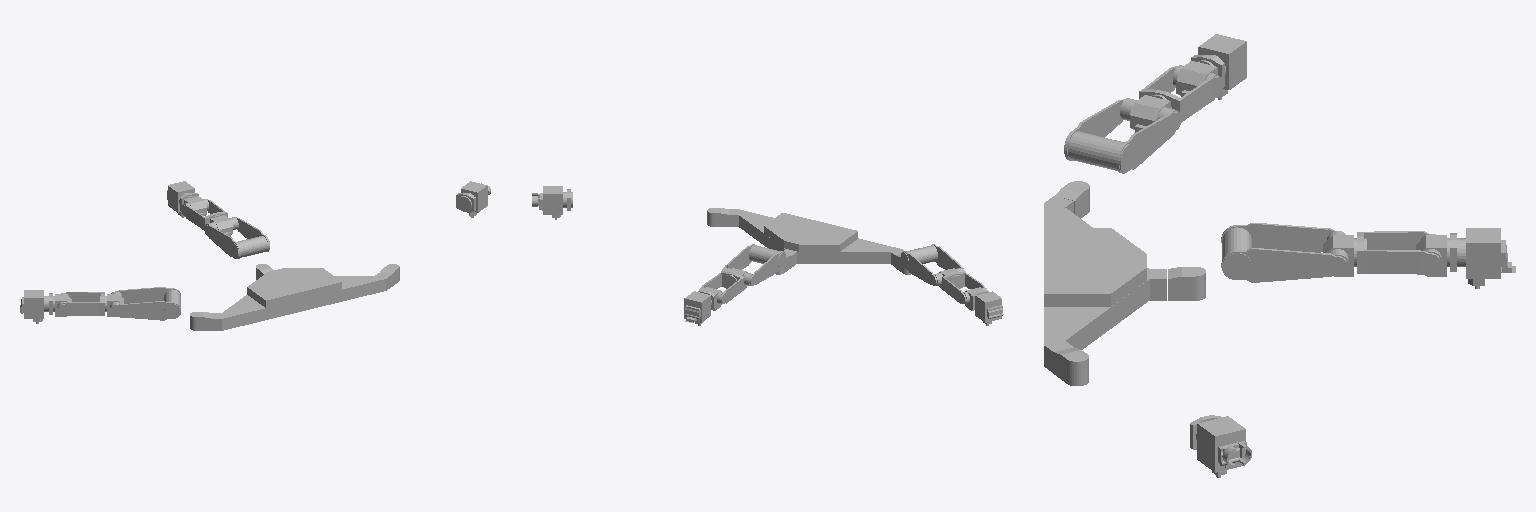
--- What the picture shows (computed from the rendered views, not written in the file) ---
Views: 3 orthographic renders of the robot side by side, from view 1: azimuth 30°, elevation 25°; view 2: azimuth 150°, elevation 25°; view 3: azimuth 270°, elevation 25°.
Robot: TriATHLETE — 28 links, 27 joints (21 revolute, 6 prismatic); root link Body; default pose: all joints at 0.
Visible links, largest first — view 1: Body, Thigh3, Thigh2, Shin3, Foot3, Foot1, Foot2, Shin2; view 2: Body, Thigh2, Thigh3, Foot1, Foot3, Foot2, Shin3, Shin2; view 3: Body, Thigh2, Thigh3, Shin2, Foot2, Foot1, Foot3, Shin3, Knee3, Ankle3, Knee2, Ankle2.
Boxes of the visible links, x1,y1,x2,y2 form: Body: (190, 264, 399, 330); Thigh3: (111, 287, 180, 320); Thigh2: (204, 217, 269, 258); Shin3: (58, 292, 106, 315); Foot3: (20, 290, 54, 323); Foot1: (456, 181, 487, 217); Foot2: (167, 181, 198, 217); Shin2: (181, 199, 227, 229); Body: (707, 208, 910, 274); Thigh2: (721, 244, 785, 285); Thigh3: (900, 244, 965, 285); Foot1: (539, 186, 572, 219); Foot3: (971, 291, 1003, 325); Foot2: (684, 291, 715, 325); Shin3: (942, 272, 987, 303); Shin2: (699, 272, 743, 303); Body: (1044, 181, 1205, 385); Thigh2: (1221, 223, 1346, 282); Thigh3: (1064, 99, 1181, 173); Shin2: (1354, 231, 1440, 274); Foot2: (1447, 228, 1507, 288); Foot1: (1190, 415, 1246, 477); Foot3: (1191, 34, 1246, 99); Shin3: (1139, 66, 1222, 122); Knee3: (1120, 95, 1178, 132); Ankle3: (1173, 61, 1218, 96); Knee2: (1323, 231, 1353, 276); Ankle2: (1416, 234, 1446, 276).
Bounding box of the posed robot: 8.33 × 4.04 × 0.5767 m (x, y, z).
Meshes: 28 distinct files referenced, 16 mesh visuals loaded (16 binary STL); not drawn: 12 (reference not matched to a file when rendering).

robot.urdf — TriATHLETE:
<robot
  name="TriATHLETE">
  <link
    name="Body">
    <inertial>
      <origin
        xyz="0.00032761 0.38981 0.13484"
        rpy="0 0 0" />
      <mass
        value="69.465" />
      <inertia
        ixx="9.5472"
        ixy="-0.0060042"
        ixz="-0.00096273"
        iyy="61.245"
        iyz="-0.026122"
        izz="69.216" />
    </inertial>
    <visual>
      <origin
        xyz="0 0 0"
        rpy="0 0 0" />
      <geometry>
        <mesh
          filename="package://TriATHLETE_Climbing/meshes/Body.STL" />
      </geometry>
      <material
        name="">
        <color
          rgba="0.75294 0.75294 0.75294 1" />
      </material>
    </visual>
    <collision>
      <origin
        xyz="0 0 0"
        rpy="0 0 0" />
      <geometry>
        <mesh
          filename="package://TriATHLETE_Climbing/meshes/Body.STL" />
      </geometry>
    </collision>
  </link>
  <link
    name="Hip1">
    <inertial>
      <origin
        xyz="0.12059 0.04703 -0.043975"
        rpy="0 0 0" />
      <mass
        value="10.161" />
      <inertia
        ixx="0.69317"
        ixy="0.0073762"
        ixz="0.040711"
        iyy="0.34376"
        iyz="0.0014897"
        izz="0.9152" />
    </inertial>
    <visual>
      <origin
        xyz="0 0 0"
        rpy="0 0 0" />
      <geometry>
        <mesh
          filename="package://TriATHLETE_Climbing/meshes/Hip1.STL" />
      </geometry>
      <material
        name="">
        <color
          rgba="0.75294 0.75294 0.75294 1" />
      </material>
    </visual>
    <collision>
      <origin
        xyz="0 0 0"
        rpy="0 0 0" />
      <geometry>
        <mesh
          filename="package://TriATHLETE_Climbing/meshes/Hip1.STL" />
      </geometry>
    </collision>
  </link>
  <joint
    name="HY1"
    type="revolute">
    <origin
      xyz="1.7322 0.27849 0.41034"
      rpy="-3.257E-15 -6.0627E-15 0.5236" />
    <parent
      link="Body" />
    <child
      link="Hip1" />
    <axis
      xyz="0 0 -1" />
    <limit
      lower="-3.1416"
      upper="3.1416"
      effort="0"
      velocity="0" />
  </joint>
  <link
    name="Thigh1">
    <inertial>
      <origin
        xyz="0.37052 1.2567E-08 -0.0016621"
        rpy="0 0 0" />
      <mass
        value="14.238" />
      <inertia
        ixx="1.0008"
        ixy="7.0442E-08"
        ixz="0.0087687"
        iyy="2.0253"
        iyz="-0.00024727"
        izz="1.3252" />
    </inertial>
    <visual>
      <origin
        xyz="0 0 0"
        rpy="0 0 0" />
      <geometry>
        <mesh
          filename="package://TriATHLETE_Climbing/meshes/Thigh1.STL" />
      </geometry>
      <material
        name="">
        <color
          rgba="0.75294 0.75294 0.75294 1" />
      </material>
    </visual>
    <collision>
      <origin
        xyz="0 0 0"
        rpy="0 0 0" />
      <geometry>
        <mesh
          filename="package://TriATHLETE_Climbing/meshes/Thigh1.STL" />
      </geometry>
    </collision>
  </link>
  <joint
    name="HP1"
    type="revolute">
    <origin
      xyz="0.36808 0 0"
      rpy="-1.5708 1.2759E-14 6.6613E-16" />
    <parent
      link="Hip1" />
    <child
      link="Thigh1" />
    <axis
      xyz="0 0 -1" />
    <limit
      lower="-1.9199"
      upper="1.5708"
      effort="0"
      velocity="0" />
  </joint>
  <link
    name="Knee1">
    <inertial>
      <origin
        xyz="0.014835 -0.055529 0.0058012"
        rpy="0 0 0" />
      <mass
        value="6.9322" />
      <inertia
        ixx="0.16535"
        ixy="0.0071097"
        ixz="-0.0005908"
        iyy="0.14265"
        iyz="0.0022095"
        izz="0.11836" />
    </inertial>
    <visual>
      <origin
        xyz="0 0 0"
        rpy="0 0 0" />
      <geometry>
        <mesh
          filename="package://TriATHLETE_Climbing/meshes/Knee1.STL" />
      </geometry>
      <material
        name="">
        <color
          rgba="0.75294 0.75294 0.75294 1" />
      </material>
    </visual>
    <collision>
      <origin
        xyz="0 0 0"
        rpy="0 0 0" />
      <geometry>
        <mesh
          filename="package://TriATHLETE_Climbing/meshes/Knee1.STL" />
      </geometry>
    </collision>
  </link>
  <joint
    name="KP1"
    type="revolute">
    <origin
      xyz="0.8627 0 0"
      rpy="7.7716E-16 5.5497E-16 1.5708" />
    <parent
      link="Thigh1" />
    <child
      link="Knee1" />
    <axis
      xyz="0 0 -1" />
    <limit
      lower="-1.9199"
      upper="3.1416"
      effort="0"
      velocity="0" />
  </joint>
  <link
    name="Shin1">
    <inertial>
      <origin
        xyz="2.2722E-06 1.9798E-05 0.38864"
        rpy="0 0 0" />
      <mass
        value="11.342" />
      <inertia
        ixx="0.80592"
        ixy="-0.0001612"
        ixz="-5.0691E-06"
        iyy="0.59356"
        iyz="-5.2897E-05"
        izz="0.3788" />
    </inertial>
    <visual>
      <origin
        xyz="0 0 0"
        rpy="0 0 0" />
      <geometry>
        <mesh
          filename="package://TriATHLETE_Climbing/meshes/Shin1.STL" />
      </geometry>
      <material
        name="">
        <color
          rgba="0.75294 0.75294 0.75294 1" />
      </material>
    </visual>
    <collision>
      <origin
        xyz="0 0 0"
        rpy="0 0 0" />
      <geometry>
        <mesh
          filename="package://TriATHLETE_Climbing/meshes/Shin1.STL" />
      </geometry>
    </collision>
  </link>
  <joint
    name="KR1"
    type="revolute">
    <origin
      xyz="0 0 0"
      rpy="1.5708 2.6218E-16 8.7503E-15" />
    <parent
      link="Knee1" />
    <child
      link="Shin1" />
    <axis
      xyz="0 0 -1" />
    <limit
      lower="-3.1416"
      upper="3.1416"
      effort="0"
      velocity="0" />
  </joint>
  <link
    name="Ankle1">
    <inertial>
      <origin
        xyz="0.01649 -0.057475 0.0063572"
        rpy="0 0 0" />
      <mass
        value="6.2489" />
      <inertia
        ixx="0.13248"
        ixy="0.0072959"
        ixz="-0.00064928"
        iyy="0.11016"
        iyz="0.0023058"
        izz="0.1122" />
    </inertial>
    <visual>
      <origin
        xyz="0 0 0"
        rpy="0 0 0" />
      <geometry>
        <mesh
          filename="package://TriATHLETE_Climbing/meshes/Ankle1.STL" />
      </geometry>
      <material
        name="">
        <color
          rgba="0.75294 0.75294 0.75294 1" />
      </material>
    </visual>
    <collision>
      <origin
        xyz="0 0 0"
        rpy="0 0 0" />
      <geometry>
        <mesh
          filename="package://TriATHLETE_Climbing/meshes/Ankle1.STL" />
      </geometry>
    </collision>
  </link>
  <joint
    name="AP1"
    type="revolute">
    <origin
      xyz="0 0 0.79918"
      rpy="-1.5708 -1.5149E-15 2.7636E-16" />
    <parent
      link="Shin1" />
    <child
      link="Ankle1" />
    <axis
      xyz="0 0 -1" />
    <limit
      lower="-2.0944"
      upper="2.0944"
      effort="0"
      velocity="0" />
  </joint>
  <link
    name="Foot1">
    <inertial>
      <origin
        xyz="0.55009 0.039493 0.39286"
        rpy="0 0 0" />
      <mass
        value="561.33" />
      <inertia
        ixx="35.475"
        ixy="0.68563"
        ixz="-0.40406"
        iyy="24.501"
        iyz="-2.4704"
        izz="32.003" />
    </inertial>
    <visual>
      <origin
        xyz="0 0 0"
        rpy="0 0 0" />
      <geometry>
        <mesh
          filename="package://TriATHLETE_Climbing/meshes/Foot1.STL" />
      </geometry>
      <material
        name="">
        <color
          rgba="0.75294 0.75294 0.75294 1" />
      </material>
    </visual>
    <collision>
      <origin
        xyz="0 0 0"
        rpy="0 0 0" />
      <geometry>
        <mesh
          filename="package://TriATHLETE_Climbing/meshes/Foot1.STL" />
      </geometry>
    </collision>
  </link>
  <joint
    name="AR1"
    type="revolute">
    <origin
      xyz="0 0 0"
      rpy="1.5708 7.4188E-16 1.3492E-16" />
    <parent
      link="Ankle1" />
    <child
      link="Foot1" />
    <axis
      xyz="0 0 -1" />
    <limit
      lower="-3.1416"
      upper="3.1416"
      effort="0"
      velocity="0" />
  </joint>
  <link
    name="ToolCam1">
    <inertial>
      <origin
        xyz="0 -5.5511E-17 -0.059372"
        rpy="0 0 0" />
      <mass
        value="0.00060466" />
      <inertia
        ixx="8.1422E-07"
        ixy="4.178E-23"
        ixz="1.5882E-22"
        iyy="1.2351E-06"
        iyz="-1.3405E-22"
        izz="6.2829E-07" />
    </inertial>
    <visual>
      <origin
        xyz="0 0 0"
        rpy="0 0 0" />
      <geometry>
        <mesh
          filename="package://TriATHLETE_Climbing/meshes/ToolCam1.STL" />
      </geometry>
      <material
        name="">
        <color
          rgba="0.75294 0.75294 0.75294 1" />
      </material>
    </visual>
    <collision>
      <origin
        xyz="0 0 0"
        rpy="0 0 0" />
      <geometry>
        <mesh
          filename="package://TriATHLETE_Climbing/meshes/ToolCam1.STL" />
      </geometry>
    </collision>
  </link>
  <joint
    name="TCam1"
    type="revolute">
    <origin
      xyz="0.13569 0 0.60972"
      rpy="1.7997E-15 2.2204E-16 -1.5708" />
    <parent
      link="Foot1" />
    <child
      link="ToolCam1" />
    <axis
      xyz="-1 0 0" />
    <limit
      effort="0"
      velocity="0" />
  </joint>
  <link
    name="ToolClamp1A">
    <inertial>
      <origin
        xyz="-0.0033419 -4.4964E-15 0.054123"
        rpy="0 0 0" />
      <mass
        value="0.00064477" />
      <inertia
        ixx="2.5412E-06"
        ixy="6.1543E-21"
        ixz="-7.1857E-08"
        iyy="1.3569E-06"
        iyz="-9.8912E-20"
        izz="1.6609E-06" />
    </inertial>
    <visual>
      <origin
        xyz="0 0 0"
        rpy="0 0 0" />
      <geometry>
        <mesh
          filename="package://TriATHLETE_Climbing/meshes/ToolClamp1A.STL" />
      </geometry>
      <material
        name="">
        <color
          rgba="0.75294 0.75294 0.75294 1" />
      </material>
    </visual>
    <collision>
      <origin
        xyz="0 0 0"
        rpy="0 0 0" />
      <geometry>
        <mesh
          filename="package://TriATHLETE_Climbing/meshes/ToolClamp1A.STL" />
      </geometry>
    </collision>
  </link>
  <joint
    name="TC1A"
    type="prismatic">
    <origin
      xyz="0 0.082309 0.62909"
      rpy="1.8082E-15 -5.5511E-17 -1.5708" />
    <parent
      link="Foot1" />
    <child
      link="ToolClamp1A" />
    <axis
      xyz="0 -1 0" />
    <limit
      effort="0"
      velocity="0"
      lower="0"
      upper="0.035"/>
  </joint>
  <link
    name="ToolClamp1B">
    <inertial>
      <origin
        xyz="0.0033419 4.5519E-15 0.054123"
        rpy="0 0 0" />
      <mass
        value="0.00064477" />
      <inertia
        ixx="2.5412E-06"
        ixy="5.8962E-21"
        ixz="7.1857E-08"
        iyy="1.3569E-06"
        iyz="1.003E-19"
        izz="1.6609E-06" />
    </inertial>
    <visual>
      <origin
        xyz="0 0 0"
        rpy="0 0 0" />
      <geometry>
        <mesh
          filename="package://TriATHLETE_Climbing/meshes/ToolClamp1B.STL" />
      </geometry>
      <material
        name="">
        <color
          rgba="0.75294 0.75294 0.75294 1" />
      </material>
    </visual>
    <collision>
      <origin
        xyz="0 0 0"
        rpy="0 0 0" />
      <geometry>
        <mesh
          filename="package://TriATHLETE_Climbing/meshes/ToolClamp1B.STL" />
      </geometry>
    </collision>
  </link>
  <joint
    name="TC1B"
    type="prismatic">
    <origin
      xyz="0 -0.082309 0.62909"
      rpy="1.2378E-15 -3.3307E-16 -1.5708" />
    <parent
      link="Foot1" />
    <child
      link="ToolClamp1B" />
    <axis
      xyz="0 1 0" />
    <limit
      effort="0"
      velocity="0"
      lower="0"
      upper="0.035"/>
  </joint>
  <link
    name="Hip2">
    <inertial>
      <origin
        xyz="0.11762 0.052167 -0.043975"
        rpy="0 0 0" />
      <mass
        value="10.161" />
      <inertia
        ixx="0.69318"
        ixy="0.00738"
        ixz="0.040711"
        iyy="0.34375"
        iyz="0.0014912"
        izz="0.91521" />
    </inertial>
    <visual>
      <origin
        xyz="0 0 0"
        rpy="0 0 0" />
      <geometry>
        <mesh
          filename="package://TriATHLETE_Climbing/meshes/Hip2.STL" />
      </geometry>
      <material
        name="">
        <color
          rgba="0.75294 0.75294 0.75294 1" />
      </material>
    </visual>
    <collision>
      <origin
        xyz="0 0 0"
        rpy="0 0 0" />
      <geometry>
        <mesh
          filename="package://TriATHLETE_Climbing/meshes/Hip2.STL" />
      </geometry>
    </collision>
  </link>
  <joint
    name="HY2"
    type="revolute">
    <origin
      xyz="0.0051465 1.2815 0.41034"
      rpy="-2.8244E-15 -5.8129E-15 1.5708" />
    <parent
      link="Body" />
    <child
      link="Hip2" />
    <axis
      xyz="0 0 -1" />
    <limit
      lower="-3.1416"
      upper="3.1416"
      effort="0"
      velocity="0" />
  </joint>
  <link
    name="Thigh2">
    <inertial>
      <origin
        xyz="0.36756 1.2571E-08 0.0034683"
        rpy="0 0 0" />
      <mass
        value="14.238" />
      <inertia
        ixx="1.0008"
        ixy="7.0917E-08"
        ixz="0.0088218"
        iyy="2.0253"
        iyz="-0.00024727"
        izz="1.3251" />
    </inertial>
    <visual>
      <origin
        xyz="0 0 0"
        rpy="0 0 0" />
      <geometry>
        <mesh
          filename="package://TriATHLETE_Climbing/meshes/Thigh2.STL" />
      </geometry>
      <material
        name="">
        <color
          rgba="0.75294 0.75294 0.75294 1" />
      </material>
    </visual>
    <collision>
      <origin
        xyz="0 0 0"
        rpy="0 0 0" />
      <geometry>
        <mesh
          filename="package://TriATHLETE_Climbing/meshes/Thigh2.STL" />
      </geometry>
    </collision>
  </link>
  <joint
    name="HP2"
    type="revolute">
    <origin
      xyz="0.36808 0 0"
      rpy="-1.5708 1.2724E-14 7.794E-16" />
    <parent
      link="Hip2" />
    <child
      link="Thigh2" />
    <axis
      xyz="0 0 -1" />
    <limit
      lower="-1.9199"
      upper="1.5708"
      effort="0"
      velocity="0" />
  </joint>
  <link
    name="Knee2">
    <inertial>
      <origin
        xyz="0.014835 -0.052569 0.010929"
        rpy="0 0 0" />
      <mass
        value="6.9322" />
      <inertia
        ixx="0.16535"
        ixy="0.0071087"
        ixz="-0.00059243"
        iyy="0.14265"
        iyz="0.0022037"
        izz="0.11835" />
    </inertial>
    <visual>
      <origin
        xyz="0 0 0"
        rpy="0 0 0" />
      <geometry>
        <mesh
          filename="package://TriATHLETE_Climbing/meshes/Knee2.STL" />
      </geometry>
      <material
        name="">
        <color
          rgba="0.75294 0.75294 0.75294 1" />
      </material>
    </visual>
    <collision>
      <origin
        xyz="0 0 0"
        rpy="0 0 0" />
      <geometry>
        <mesh
          filename="package://TriATHLETE_Climbing/meshes/Knee2.STL" />
      </geometry>
    </collision>
  </link>
  <joint
    name="KP2"
    type="revolute">
    <origin
      xyz="0.8627 0 0"
      rpy="8.4954E-15 4.3895E-15 1.5708" />
    <parent
      link="Thigh2" />
    <child
      link="Knee2" />
    <axis
      xyz="0 0 -1" />
    <limit
      lower="-1.9199"
      upper="3.1416"
      effort="0"
      velocity="0" />
  </joint>
  <link
    name="Shin2">
    <inertial>
      <origin
        xyz="2.2719E-06 0.0051584 0.38567"
        rpy="0 0 0" />
      <mass
        value="11.342" />
      <inertia
        ixx="0.80591"
        ixy="-0.0001612"
        ixz="-5.0685E-06"
        iyy="0.59355"
        iyz="-4.9846E-05"
        izz="0.3788" />
    </inertial>
    <visual>
      <origin
        xyz="0 0 0"
        rpy="0 0 0" />
      <geometry>
        <mesh
          filename="package://TriATHLETE_Climbing/meshes/Shin2.STL" />
      </geometry>
      <material
        name="">
        <color
          rgba="0.75294 0.75294 0.75294 1" />
      </material>
    </visual>
    <collision>
      <origin
        xyz="0 0 0"
        rpy="0 0 0" />
      <geometry>
        <mesh
          filename="package://TriATHLETE_Climbing/meshes/Shin2.STL" />
      </geometry>
    </collision>
  </link>
  <joint
    name="KR2"
    type="revolute">
    <origin
      xyz="0 0 0"
      rpy="1.5708 -3.5876E-15 -5.5998E-15" />
    <parent
      link="Knee2" />
    <child
      link="Shin2" />
    <axis
      xyz="0 0 -1" />
    <limit
      lower="-3.1416"
      upper="3.1416"
      effort="0"
      velocity="0" />
  </joint>
  <link
    name="Ankle2">
    <inertial>
      <origin
        xyz="0.01649 -0.054514 0.011486"
        rpy="0 0 0" />
      <mass
        value="6.2489" />
      <inertia
        ixx="0.13248"
        ixy="0.0072949"
        ixz="-0.000651"
        iyy="0.11016"
        iyz="0.0023008"
        izz="0.1122" />
    </inertial>
    <visual>
      <origin
        xyz="0 0 0"
        rpy="0 0 0" />
      <geometry>
        <mesh
          filename="package://TriATHLETE_Climbing/meshes/Ankle2.STL" />
      </geometry>
      <material
        name="">
        <color
          rgba="0.75294 0.75294 0.75294 1" />
      </material>
    </visual>
    <collision>
      <origin
        xyz="0 0 0"
        rpy="0 0 0" />
      <geometry>
        <mesh
          filename="package://TriATHLETE_Climbing/meshes/Ankle2.STL" />
      </geometry>
    </collision>
  </link>
  <joint
    name="AP2"
    type="revolute">
    <origin
      xyz="0 0 0.79918"
      rpy="-1.5708 -1.5611E-15 2.5127E-16" />
    <parent
      link="Shin2" />
    <child
      link="Ankle2" />
    <axis
      xyz="0 0 -1" />
    <limit
      lower="-2.0944"
      upper="2.0944"
      effort="0"
      velocity="0" />
  </joint>
  <link
    name="Foot2">
    <inertial>
      <origin
        xyz="0.55011 0.044802 0.38984"
        rpy="0 0 0" />
      <mass
        value="561.68" />
      <inertia
        ixx="35.523"
        ixy="0.68863"
        ixz="-0.40501"
        iyy="24.524"
        iyz="-2.4616"
        izz="32.029" />
    </inertial>
    <visual>
      <origin
        xyz="0 0 0"
        rpy="0 0 0" />
      <geometry>
        <mesh
          filename="package://TriATHLETE_Climbing/meshes/Foot2.STL" />
      </geometry>
      <material
        name="">
        <color
          rgba="0.75294 0.75294 0.75294 1" />
      </material>
    </visual>
    <collision>
      <origin
        xyz="0 0 0"
        rpy="0 0 0" />
      <geometry>
        <mesh
          filename="package://TriATHLETE_Climbing/meshes/Foot2.STL" />
      </geometry>
    </collision>
  </link>
  <joint
    name="AR2"
    type="revolute">
    <origin
      xyz="0 0 0"
      rpy="1.5708 7.1678E-16 1.811E-16" />
    <parent
      link="Ankle2" />
    <child
      link="Foot2" />
    <axis
      xyz="0 0 -1" />
    <limit
      lower="-3.1416"
      upper="3.1416"
      effort="0"
      velocity="0" />
  </joint>
  <link
    name="ToolCam2">
    <inertial>
      <origin
        xyz="-8.6736E-19 0 -0.059372"
        rpy="0 0 0" />
      <mass
        value="0.00060466" />
      <inertia
        ixx="8.1422E-07"
        ixy="0"
        ixz="-5.2049E-23"
        iyy="1.2351E-06"
        iyz="2.2546E-23"
        izz="6.2829E-07" />
    </inertial>
    <visual>
      <origin
        xyz="0 0 0"
        rpy="0 0 0" />
      <geometry>
        <mesh
          filename="package://TriATHLETE_Climbing/meshes/ToolCam2.STL" />
      </geometry>
      <material
        name="">
        <color
          rgba="0.75294 0.75294 0.75294 1" />
      </material>
    </visual>
    <collision>
      <origin
        xyz="0 0 0"
        rpy="0 0 0" />
      <geometry>
        <mesh
          filename="package://TriATHLETE_Climbing/meshes/ToolCam2.STL" />
      </geometry>
    </collision>
  </link>
  <joint
    name="TCam2"
    type="revolute">
    <origin
      xyz="0.13569 0 0.60972"
      rpy="-6.9798E-15 6.8834E-15 -1.5708" />
    <parent
      link="Foot2" />
    <child
      link="ToolCam2" />
    <axis
      xyz="-1 0 0" />
    <limit
      effort="0"
      velocity="0" />
  </joint>
  <link
    name="ToolClamp2A">
    <inertial>
      <origin
        xyz="-0.0033419 -4.4964E-15 0.054123"
        rpy="0 0 0" />
      <mass
        value="0.00064477" />
      <inertia
        ixx="2.5412E-06"
        ixy="8.312E-21"
        ixz="-7.1857E-08"
        iyy="1.3569E-06"
        iyz="-9.7044E-20"
        izz="1.6609E-06" />
    </inertial>
    <visual>
      <origin
        xyz="0 0 0"
        rpy="0 0 0" />
      <geometry>
        <mesh
          filename="package://TriATHLETE_Climbing/meshes/ToolClamp2A.STL" />
      </geometry>
      <material
        name="">
        <color
          rgba="0.75294 0.75294 0.75294 1" />
      </material>
    </visual>
    <collision>
      <origin
        xyz="0 0 0"
        rpy="0 0 0" />
      <geometry>
        <mesh
          filename="package://TriATHLETE_Climbing/meshes/ToolClamp2A.STL" />
      </geometry>
    </collision>
  </link>
  <joint
    name="TC2A"
    type="prismatic">
    <origin
      xyz="0 0.082309 0.62909"
      rpy="-6.9798E-15 6.8834E-15 -1.5708" />
    <parent
      link="Foot2" />
    <child
      link="ToolClamp2A" />
    <axis
      xyz="0 -1 0" />
    <limit
      effort="0"
      velocity="0"
      lower="0"
      upper="0.035"/>
  </joint>
  <link
    name="ToolClamp2B">
    <inertial>
      <origin
        xyz="0.0033419 3.9968E-15 0.054123"
        rpy="0 0 0" />
      <mass
        value="0.00064477" />
      <inertia
        ixx="2.5412E-06"
        ixy="3.4497E-21"
        ixz="7.1857E-08"
        iyy="1.3569E-06"
        iyz="9.988E-20"
        izz="1.6609E-06" />
    </inertial>
    <visual>
      <origin
        xyz="0 0 0"
        rpy="0 0 0" />
      <geometry>
        <mesh
          filename="package://TriATHLETE_Climbing/meshes/ToolClamp2B.STL" />
      </geometry>
      <material
        name="">
        <color
          rgba="0.75294 0.75294 0.75294 1" />
      </material>
    </visual>
    <collision>
      <origin
        xyz="0 0 0"
        rpy="0 0 0" />
      <geometry>
        <mesh
          filename="package://TriATHLETE_Climbing/meshes/ToolClamp2B.STL" />
      </geometry>
    </collision>
  </link>
  <joint
    name="TC2B"
    type="prismatic">
    <origin
      xyz="0 -0.082309 0.62909"
      rpy="-6.9798E-15 6.8834E-15 -1.5708" />
    <parent
      link="Foot2" />
    <child
      link="ToolClamp2B" />
    <axis
      xyz="0 1 0" />
    <limit
      effort="0"
      velocity="0"
      lower="0"
      upper="0.035"/>
  </joint>
  <link
    name="Hip3">
    <inertial>
      <origin
        xyz="0.12059 0.057303 -0.043975"
        rpy="0 0 0" />
      <mass
        value="10.161" />
      <inertia
        ixx="0.69319"
        ixy="0.0073894"
        ixz="0.040711"
        iyy="0.34376"
        iyz="0.0014925"
        izz="0.91523" />
    </inertial>
    <visual>
      <origin
        xyz="0 0 0"
        rpy="0 0 0" />
      <geometry>
        <mesh
          filename="package://TriATHLETE_Climbing/meshes/Hip3.STL" />
      </geometry>
      <material
        name="">
        <color
          rgba="0.75294 0.75294 0.75294 1" />
      </material>
    </visual>
    <collision>
      <origin
        xyz="0 0 0"
        rpy="0 0 0" />
      <geometry>
        <mesh
          filename="package://TriATHLETE_Climbing/meshes/Hip3.STL" />
      </geometry>
    </collision>
  </link>
  <joint
    name="HY3"
    type="revolute">
    <origin
      xyz="-1.727 0.2874 0.41034"
      rpy="-2.3917E-15 -6.0627E-15 2.618" />
    <parent
      link="Body" />
    <child
      link="Hip3" />
    <axis
      xyz="0 0 -1" />
    <limit
      lower="-3.1416"
      upper="3.1416"
      effort="0"
      velocity="0" />
  </joint>
  <link
    name="Thigh3">
    <inertial>
      <origin
        xyz="0.37052 1.2575E-08 0.0085988"
        rpy="0 0 0" />
      <mass
        value="14.238" />
      <inertia
        ixx="1.0008"
        ixy="7.0333E-08"
        ixz="0.0088758"
        iyy="2.0253"
        iyz="-0.00024727"
        izz="1.3252" />
    </inertial>
    <visual>
      <origin
        xyz="0 0 0"
        rpy="0 0 0" />
      <geometry>
        <mesh
          filename="package://TriATHLETE_Climbing/meshes/Thigh3.STL" />
      </geometry>
      <material
        name="">
        <color
          rgba="0.75294 0.75294 0.75294 1" />
      </material>
    </visual>
    <collision>
      <origin
        xyz="0 0 0"
        rpy="0 0 0" />
      <geometry>
        <mesh
          filename="package://TriATHLETE_Climbing/meshes/Thigh3.STL" />
      </geometry>
    </collision>
  </link>
  <joint
    name="HP3"
    type="revolute">
    <origin
      xyz="0.36808 0 0"
      rpy="-1.5708 1.2772E-14 7.7716E-16" />
    <parent
      link="Hip3" />
    <child
      link="Thigh3" />
    <axis
      xyz="0 0 -1" />
    <limit
      lower="-1.9199"
      upper="1.5708"
      effort="0"
      velocity="0" />
  </joint>
  <link
    name="Knee3">
    <inertial>
      <origin
        xyz="0.014835 -0.055529 0.016058"
        rpy="0 0 0" />
      <mass
        value="6.9322" />
      <inertia
        ixx="0.16536"
        ixy="0.0071096"
        ixz="-0.00059406"
        iyy="0.14266"
        iyz="0.0021963"
        izz="0.11836" />
    </inertial>
    <visual>
      <origin
        xyz="0 0 0"
        rpy="0 0 0" />
      <geometry>
        <mesh
          filename="package://TriATHLETE_Climbing/meshes/Knee3.STL" />
      </geometry>
      <material
        name="">
        <color
          rgba="0.75294 0.75294 0.75294 1" />
      </material>
    </visual>
    <collision>
      <origin
        xyz="0 0 0"
        rpy="0 0 0" />
      <geometry>
        <mesh
          filename="package://TriATHLETE_Climbing/meshes/Knee3.STL" />
      </geometry>
    </collision>
  </link>
  <joint
    name="KP3"
    type="revolute">
    <origin
      xyz="0.8627 0 0"
      rpy="8.3267E-16 6.1564E-16 1.5708" />
    <parent
      link="Thigh3" />
    <child
      link="Knee3" />
    <axis
      xyz="0 0 -1" />
    <limit
      lower="-1.9199"
      upper="3.1416"
      effort="0"
      velocity="0" />
  </joint>
  <link
    name="Shin3">
    <inertial>
      <origin
        xyz="2.2717E-06 0.010297 0.38864"
        rpy="0 0 0" />
      <mass
        value="11.342" />
      <inertia
        ixx="0.80592"
        ixy="-0.0001612"
        ixz="-5.0682E-06"
        iyy="0.59356"
        iyz="-4.6265E-05"
        izz="0.3788" />
    </inertial>
    <visual>
      <origin
        xyz="0 0 0"
        rpy="0 0 0" />
      <geometry>
        <mesh
          filename="package://TriATHLETE_Climbing/meshes/Shin3.STL" />
      </geometry>
      <material
        name="">
        <color
          rgba="0.75294 0.75294 0.75294 1" />
      </material>
    </visual>
    <collision>
      <origin
        xyz="0 0 0"
        rpy="0 0 0" />
      <geometry>
        <mesh
          filename="package://TriATHLETE_Climbing/meshes/Shin3.STL" />
      </geometry>
    </collision>
  </link>
  <joint
    name="KR3"
    type="revolute">
    <origin
      xyz="0 0 0"
      rpy="1.5708 3.7078E-17 8.6514E-15" />
    <parent
      link="Knee3" />
    <child
      link="Shin3" />
    <axis
      xyz="0 0 -1" />
    <limit
      lower="-3.1416"
      upper="3.1416"
      effort="0"
      velocity="0" />
  </joint>
  <link
    name="Ankle3">
    <inertial>
      <origin
        xyz="0.01649 -0.057475 0.016615"
        rpy="0 0 0" />
      <mass
        value="6.2489" />
      <inertia
        ixx="0.13249"
        ixy="0.0072959"
        ixz="-0.00065273"
        iyy="0.11016"
        iyz="0.0022943"
        izz="0.1122" />
    </inertial>
    <visual>
      <origin
        xyz="0 0 0"
        rpy="0 0 0" />
      <geometry>
        <mesh
          filename="package://TriATHLETE_Climbing/meshes/Ankle3.STL" />
      </geometry>
      <material
        name="">
        <color
          rgba="0.75294 0.75294 0.75294 1" />
      </material>
    </visual>
    <collision>
      <origin
        xyz="0 0 0"
        rpy="0 0 0" />
      <geometry>
        <mesh
          filename="package://TriATHLETE_Climbing/meshes/Ankle3.STL" />
      </geometry>
    </collision>
  </link>
  <joint
    name="AP3"
    type="revolute">
    <origin
      xyz="0 0 0.79918"
      rpy="-1.5708 -1.4518E-15 5.062E-17" />
    <parent
      link="Shin3" />
    <child
      link="Ankle3" />
    <axis
      xyz="0 0 -1" />
    <limit
      lower="-2.0944"
      upper="2.0944"
      effort="0"
      velocity="0" />
  </joint>
  <link
    name="Foot3">
    <inertial>
      <origin
        xyz="0.55009 0.049785 0.39286"
        rpy="0 0 0" />
      <mass
        value="561.33" />
      <inertia
        ixx="35.476"
        ixy="0.68591"
        ixz="-0.40405"
        iyy="24.501"
        iyz="-2.4704"
        izz="32.003" />
    </inertial>
    <visual>
      <origin
        xyz="0 0 0"
        rpy="0 0 0" />
      <geometry>
        <mesh
          filename="package://TriATHLETE_Climbing/meshes/Foot3.STL" />
      </geometry>
      <material
        name="">
        <color
          rgba="0.75294 0.75294 0.75294 1" />
      </material>
    </visual>
    <collision>
      <origin
        xyz="0 0 0"
        rpy="0 0 0" />
      <geometry>
        <mesh
          filename="package://TriATHLETE_Climbing/meshes/Foot3.STL" />
      </geometry>
    </collision>
  </link>
  <joint
    name="AR3"
    type="revolute">
    <origin
      xyz="0 0 0"
      rpy="1.5708 7.7376E-16 1.4621E-16" />
    <parent
      link="Ankle3" />
    <child
      link="Foot3" />
    <axis
      xyz="0 0 -1" />
    <limit
      lower="-3.1416"
      upper="3.1416"
      effort="0"
      velocity="0" />
  </joint>
  <link
    name="ToolCam3">
    <inertial>
      <origin
        xyz="-4.4409E-16 2.7756E-17 -0.059372"
        rpy="0 0 0" />
      <mass
        value="0.00060466" />
      <inertia
        ixx="8.1422E-07"
        ixy="1.1599E-23"
        ixz="-9.5291E-22"
        iyy="1.2351E-06"
        iyz="3.5438E-24"
        izz="6.2829E-07" />
    </inertial>
    <visual>
      <origin
        xyz="0 0 0"
        rpy="0 0 0" />
      <geometry>
        <mesh
          filename="package://TriATHLETE_Climbing/meshes/ToolCam3.STL" />
      </geometry>
      <material
        name="">
        <color
          rgba="0.75294 0.75294 0.75294 1" />
      </material>
    </visual>
    <collision>
      <origin
        xyz="0 0 0"
        rpy="0 0 0" />
      <geometry>
        <mesh
          filename="package://TriATHLETE_Climbing/meshes/ToolCam3.STL" />
      </geometry>
    </collision>
  </link>
  <joint
    name="TCam3"
    type="revolute">
    <origin
      xyz="0.13569 0 0.60972"
      rpy="1.7753E-15 3.3307E-16 -1.5708" />
    <parent
      link="Foot3" />
    <child
      link="ToolCam3" />
    <axis
      xyz="-1 0 0" />
    <limit
      effort="0"
      velocity="0" />
  </joint>
  <link
    name="ToolClamp3A">
    <inertial>
      <origin
        xyz="-0.0033419 -4.3854E-15 0.054123"
        rpy="0 0 0" />
      <mass
        value="0.00064477" />
      <inertia
        ixx="2.5412E-06"
        ixy="1.0269E-20"
        ixz="-7.1857E-08"
        iyy="1.3569E-06"
        iyz="-9.5455E-20"
        izz="1.6609E-06" />
    </inertial>
    <visual>
      <origin
        xyz="0 0 0"
        rpy="0 0 0" />
      <geometry>
        <mesh
          filename="package://TriATHLETE_Climbing/meshes/ToolClamp3A.STL" />
      </geometry>
      <material
        name="">
        <color
          rgba="0.75294 0.75294 0.75294 1" />
      </material>
    </visual>
    <collision>
      <origin
        xyz="0 0 0"
        rpy="0 0 0" />
      <geometry>
        <mesh
          filename="package://TriATHLETE_Climbing/meshes/ToolClamp3A.STL" />
      </geometry>
    </collision>
  </link>
  <joint
    name="TC3A"
    type="prismatic">
    <origin
      xyz="0 0.082309 0.62909"
      rpy="1.7838E-15 5.5511E-17 -1.5708" />
    <parent
      link="Foot3" />
    <child
      link="ToolClamp3A" />
    <axis
      xyz="0 -1 0" />
    <limit
      effort="0"
      velocity="0"
      lower="0"
      upper="0.035"/>
  </joint>
  <link
    name="ToolClamp3B">
    <inertial>
      <origin
        xyz="0.0033419 4.5519E-15 0.054123"
        rpy="0 0 0" />
      <mass
        value="0.00064477" />
      <inertia
        ixx="2.5412E-06"
        ixy="7.7055E-21"
        ixz="7.1857E-08"
        iyy="1.3569E-06"
        iyz="9.7572E-20"
        izz="1.6609E-06" />
    </inertial>
    <visual>
      <origin
        xyz="0 0 0"
        rpy="0 0 0" />
      <geometry>
        <mesh
          filename="package://TriATHLETE_Climbing/meshes/ToolClamp3B.STL" />
      </geometry>
      <material
        name="">
        <color
          rgba="0.75294 0.75294 0.75294 1" />
      </material>
    </visual>
    <collision>
      <origin
        xyz="0 0 0"
        rpy="0 0 0" />
      <geometry>
        <mesh
          filename="package://TriATHLETE_Climbing/meshes/ToolClamp3B.STL" />
      </geometry>
    </collision>
  </link>
  <joint
    name="TC3B"
    type="prismatic">
    <origin
      xyz="0 -0.082309 0.62909"
      rpy="1.2134E-15 -1.6653E-16 -1.5708" />
    <parent
      link="Foot3" />
    <child
      link="ToolClamp3B" />
    <axis
      xyz="0 1 0" />
    <limit
      effort="0"
      velocity="0"
      lower="0"
      upper="0.035"/>
  </joint>
</robot>
